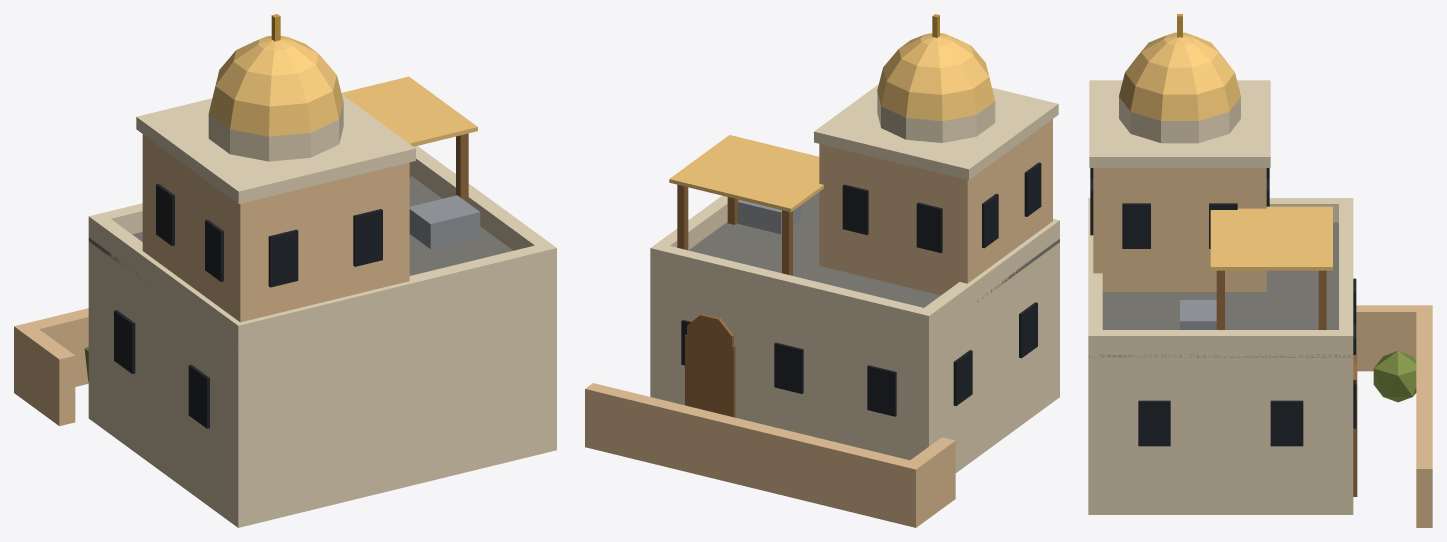
The model's file is house_b.glb.
3 views of the same model, side by side, from view 1: azimuth 30°, elevation 25°; view 2: azimuth 150°, elevation 25°; view 3: azimuth 270°, elevation 25° (orthographic). The views are drawn at different scales.
Visible parts, largest first — view 1: house_b; view 2: house_b; view 3: house_b.
Part boxes in pixels (x1,y1,x2,y2): house_b: (14, 14, 556, 527); house_b: (585, 14, 1059, 527); house_b: (1088, 14, 1432, 527).
Bounding box in the file's own units: 1.9 × 2.19 × 1.69.
